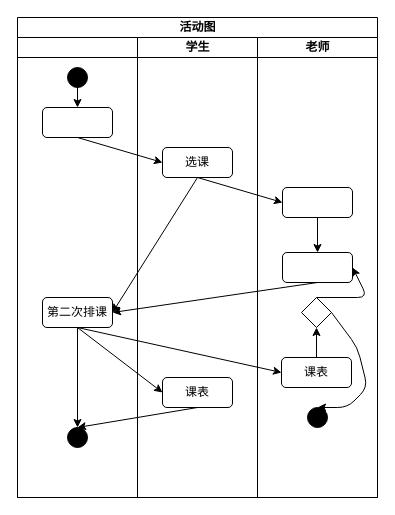
This 395x515 diagram has some shape labels left out. The shapes that lost their labels are listed below. From the top down, each one's box as (x1, y1, x2, y2) in pixels, then its label:
(42, 106, 112, 138): 第一次排课
(282, 186, 352, 218): 课表信息
(16, 36, 138, 498): 管理员
(282, 252, 352, 282): 反馈
